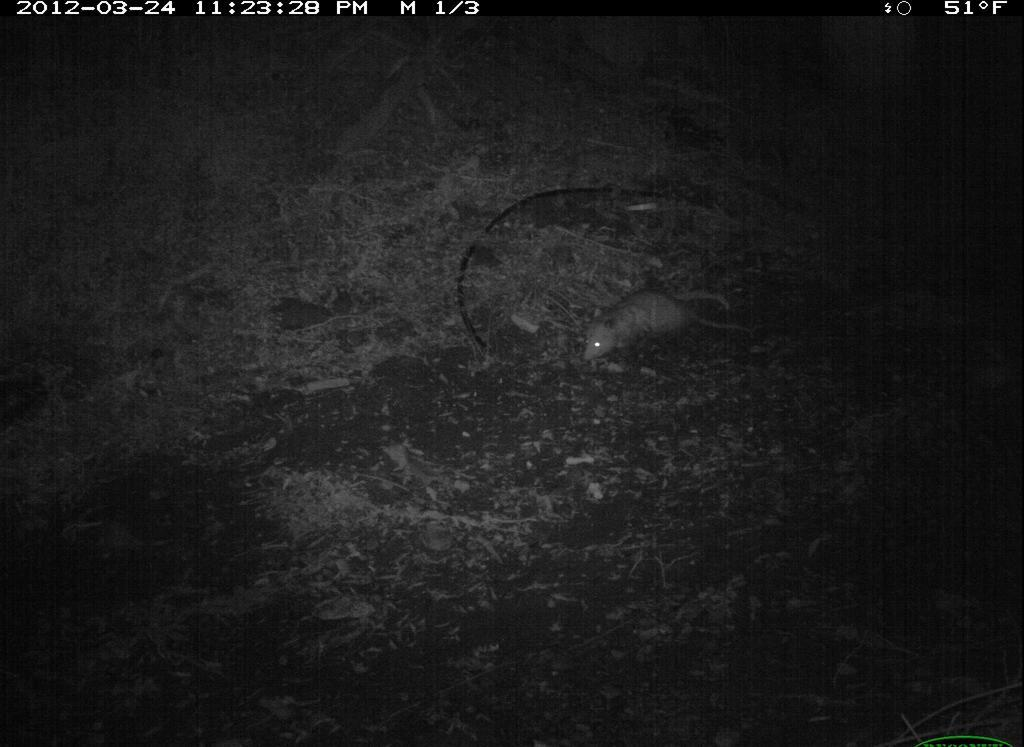opossum: (575, 276, 740, 368)
